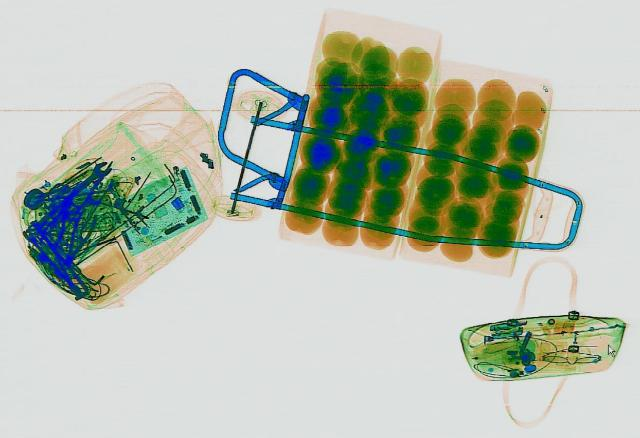Pliers: (54, 212, 98, 266)
Wrench: (20, 159, 116, 229)
